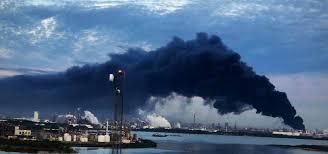smoke: (127, 39, 259, 115), (260, 75, 309, 131)
